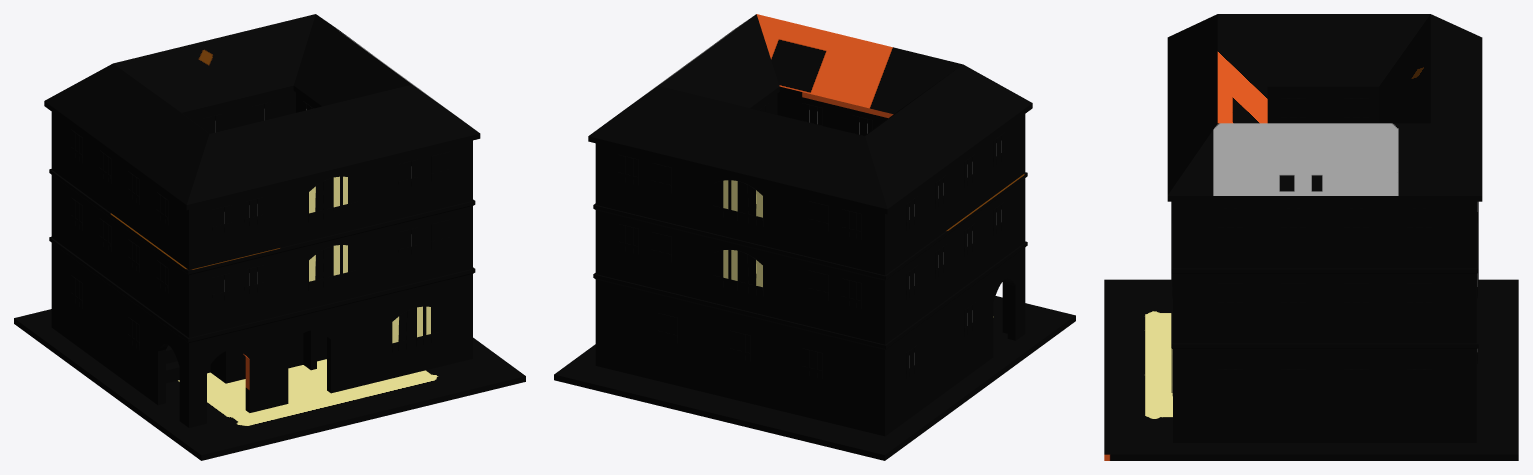
The model's file is insula_rework030620.fbx.
The picture shows the model from 3 angles, left to right: view 1: azimuth 30°, elevation 25°; view 2: azimuth 150°, elevation 25°; view 3: azimuth 270°, elevation 25°; orthographic projection. The views are drawn at different scales.
Parts seen in each view (by area): view 1: Insula; view 2: Insula; view 3: Insula.
Boxes of the visible parts, left/top/right/bottom form: Insula: left=14, top=14, right=525, bottom=460; Insula: left=554, top=14, right=1075, bottom=460; Insula: left=1104, top=14, right=1518, bottom=460.
Size of the model in its own units: 600 by 486 by 600.
